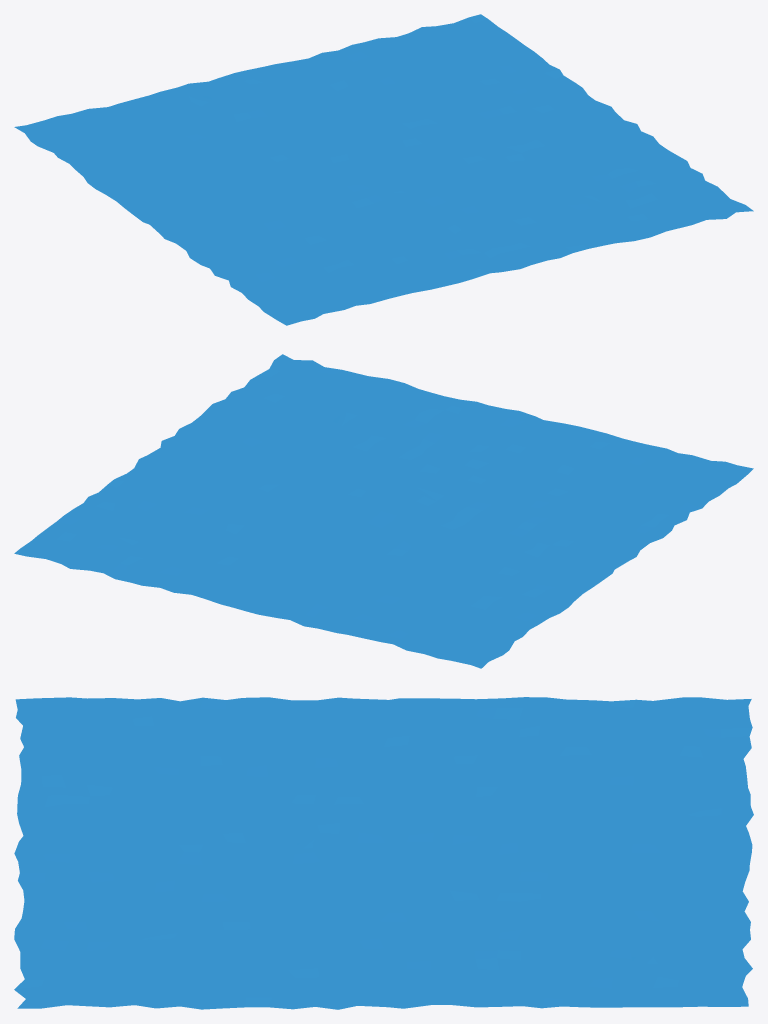
The model's file is Sea.fbx.
The picture shows the model from 3 angles, top to bottom: view 1: azimuth 30°, elevation 25°; view 2: azimuth 150°, elevation 25°; view 3: azimuth 270°, elevation 25°; orthographic projection. The views are drawn at different scales.
Visible parts, largest first — view 1: Sea; view 2: Sea; view 3: Sea.
Part boxes in pixels (x1,y1,x2,y2): Sea: [14, 14, 753, 325]; Sea: [14, 354, 753, 668]; Sea: [14, 697, 753, 1009].
Size of the model in its own units: 40000 by 3.84 by 40000.
